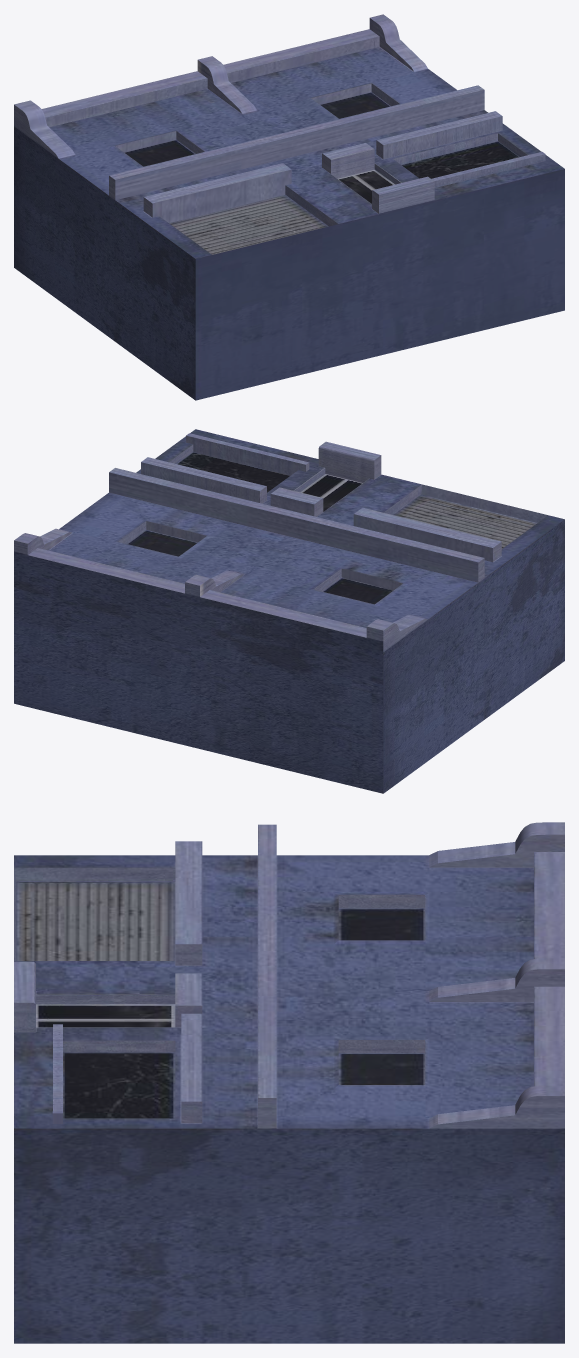
The model's file is Building1.fbx.
3 renders of one model, top to bottom at view 1: azimuth 30°, elevation 25°; view 2: azimuth 150°, elevation 25°; view 3: azimuth 270°, elevation 25°, orthographic. The views are drawn at different scales.
Parts seen in each view (by area): view 1: pCube1; view 2: pCube1; view 3: pCube1.
Boxes of the visible parts, x1,y1,x2,y2 form: pCube1: (14, 14, 564, 400); pCube1: (14, 429, 564, 793); pCube1: (14, 822, 564, 1343).
Size of the model in its own units: 443 by 187 by 377.
Materials: 1 (1 with a texture image).
